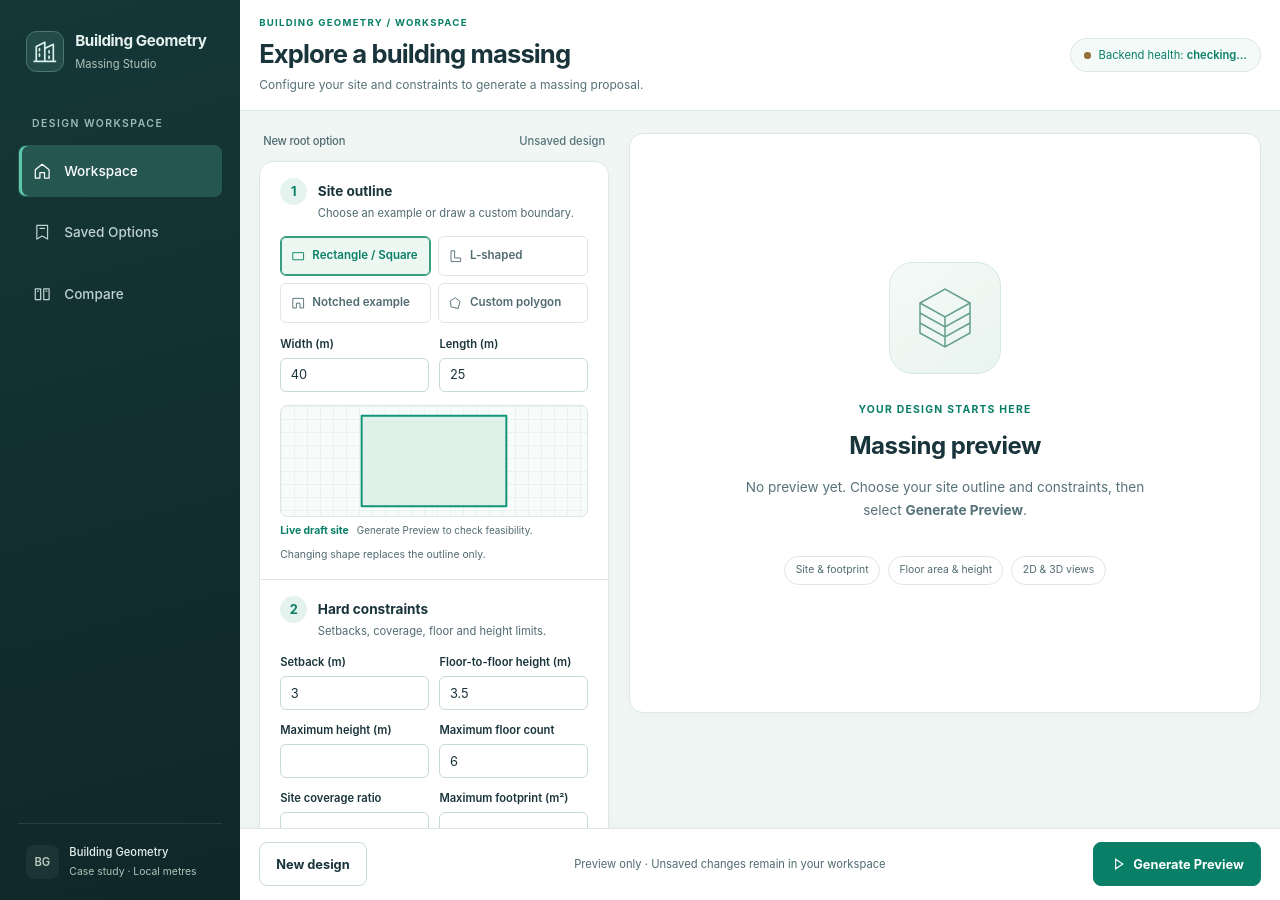
Test: App › keeps a pending preview attached to its draft across section navigation
The image size is (1280, 900).
Click the button "Generate Preview": (1177, 864) x1=1093 y1=842 x2=1261 y2=886
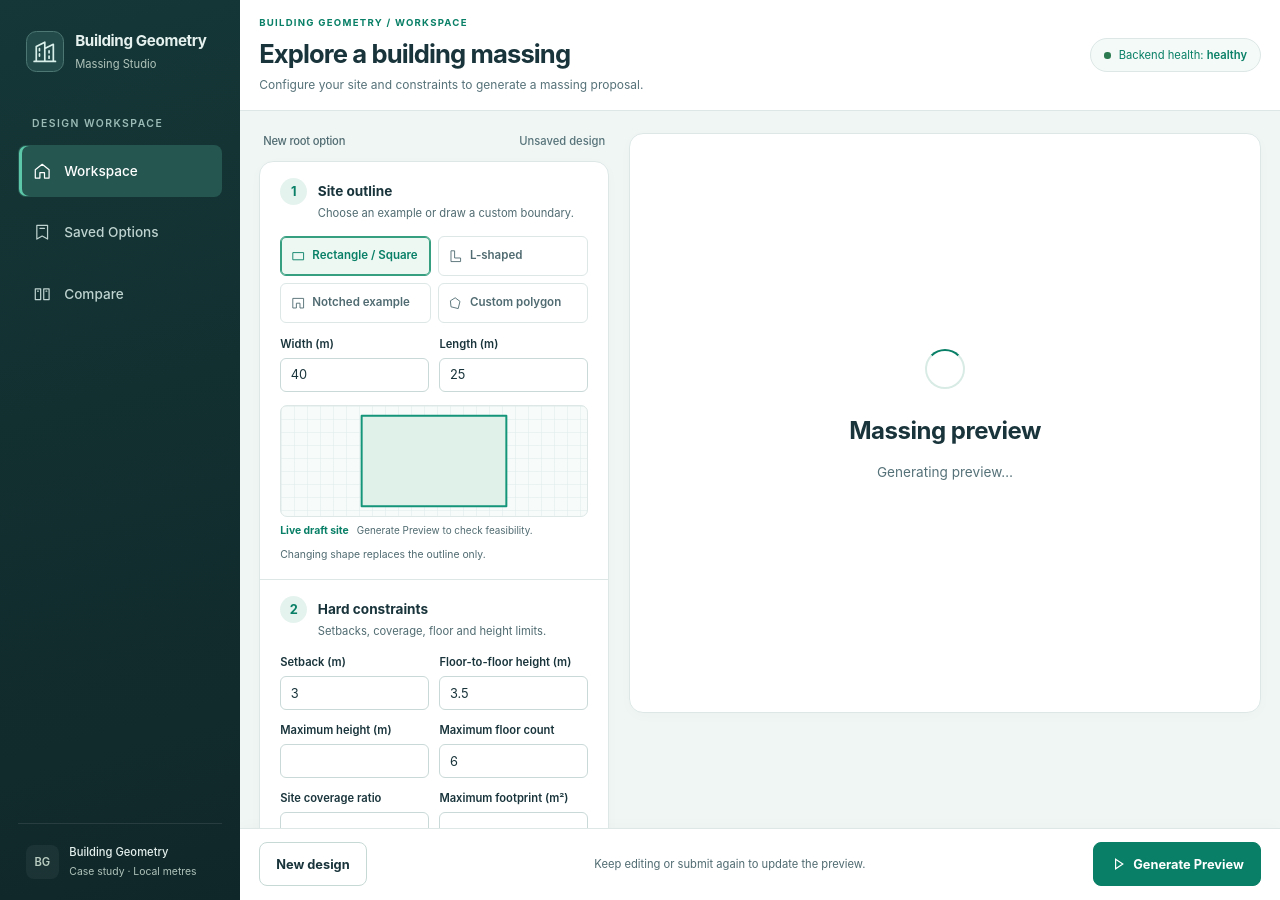
Now the text "Generating preview…" is shown, box x1=877 y1=461 x2=1013 y2=484
Click the button "Saved Options": (120, 232) x1=18 y1=206 x2=222 y2=258
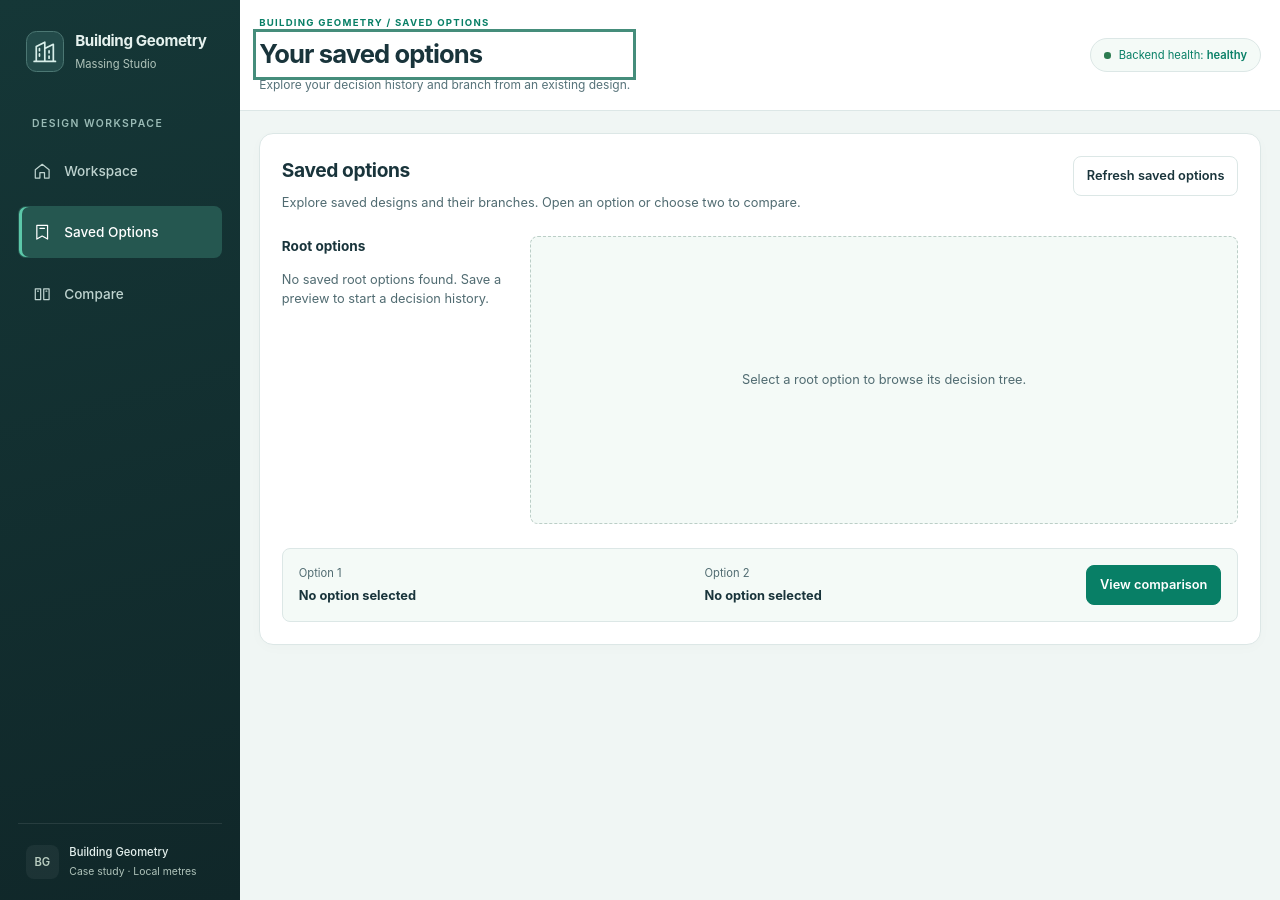
Click the button "Compare": (120, 294) x1=18 y1=268 x2=222 y2=320
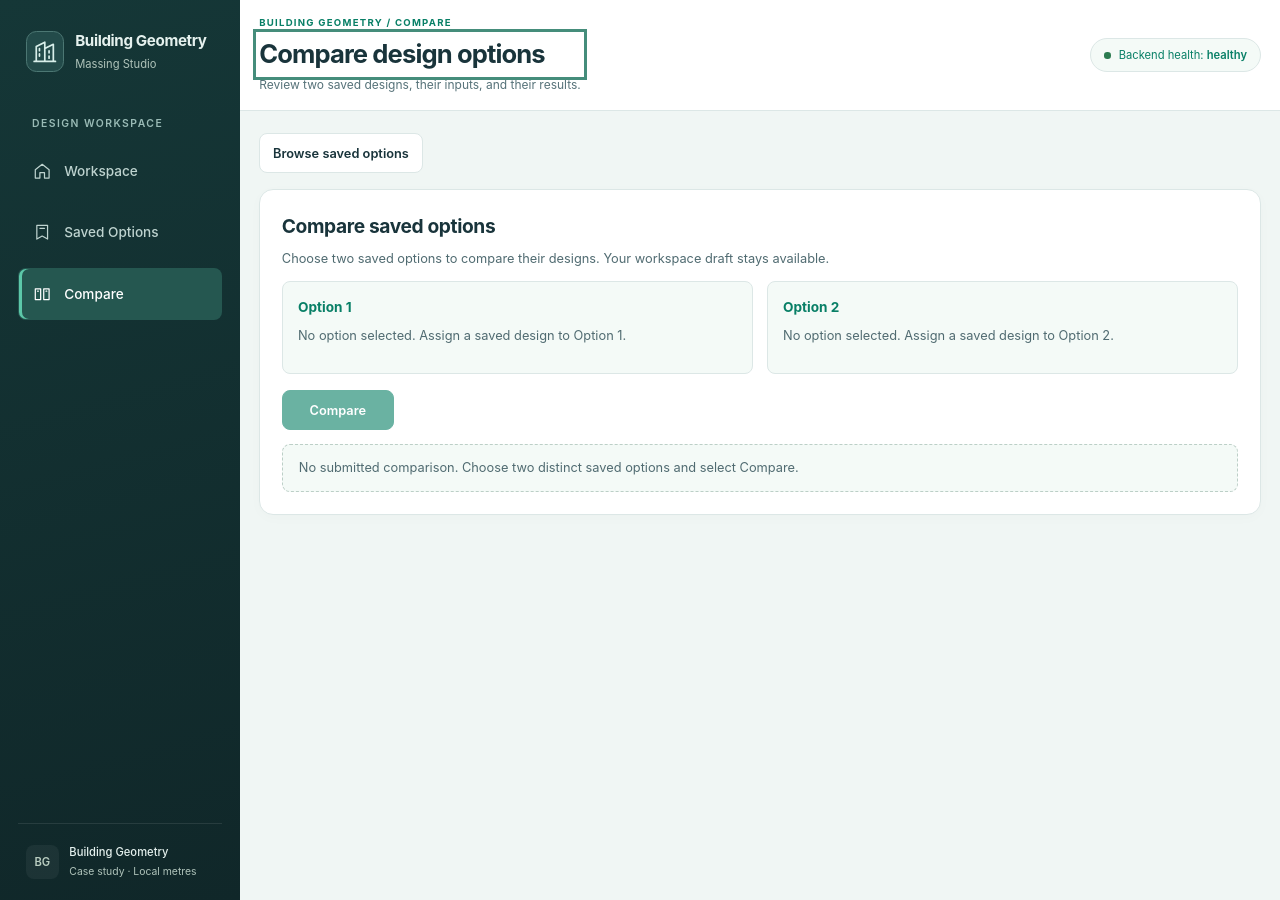
Click the button "Workspace": (120, 171) x1=18 y1=145 x2=222 y2=197
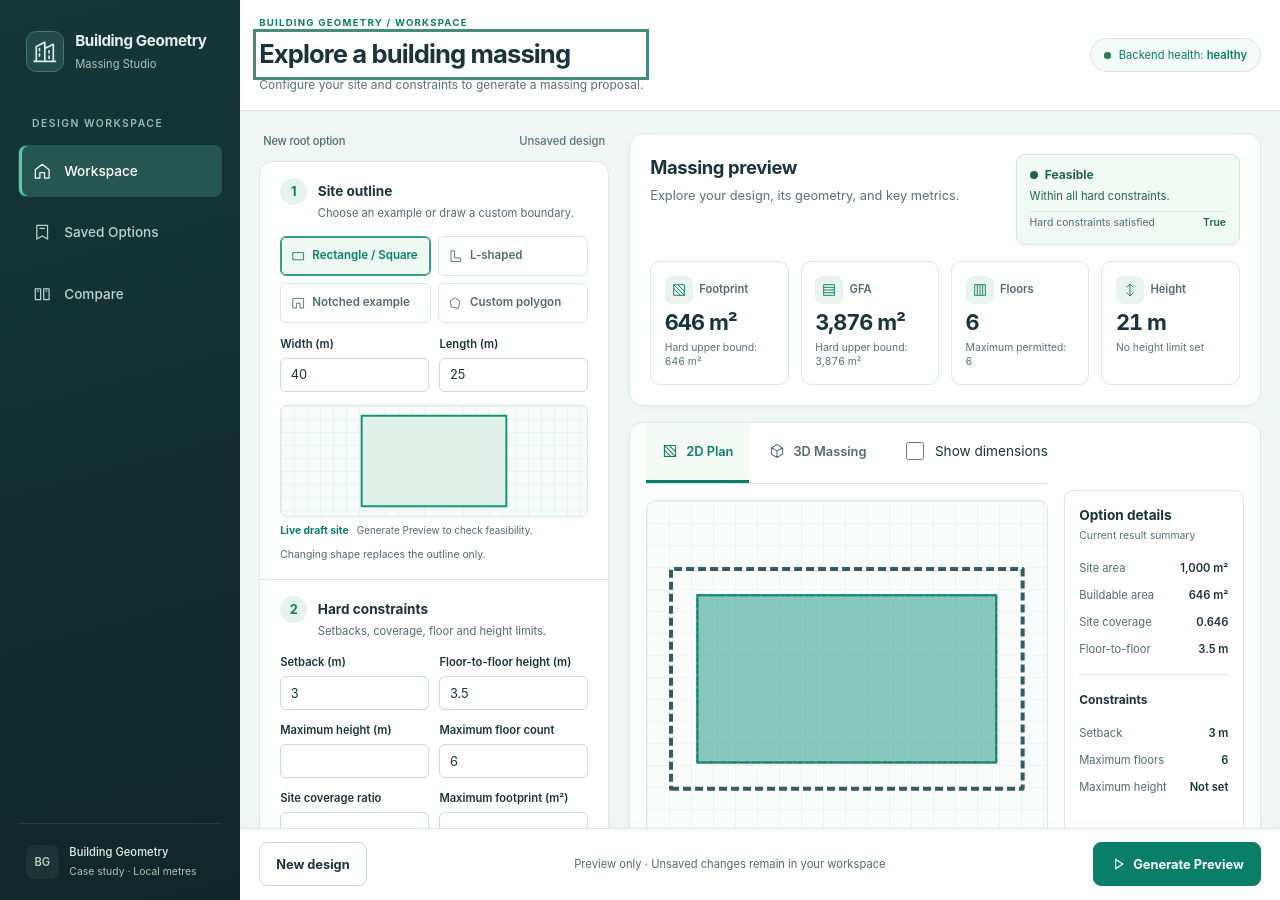
Now the picture named "Site plan" is shown, box x1=647 y1=554 x2=1047 y2=804
